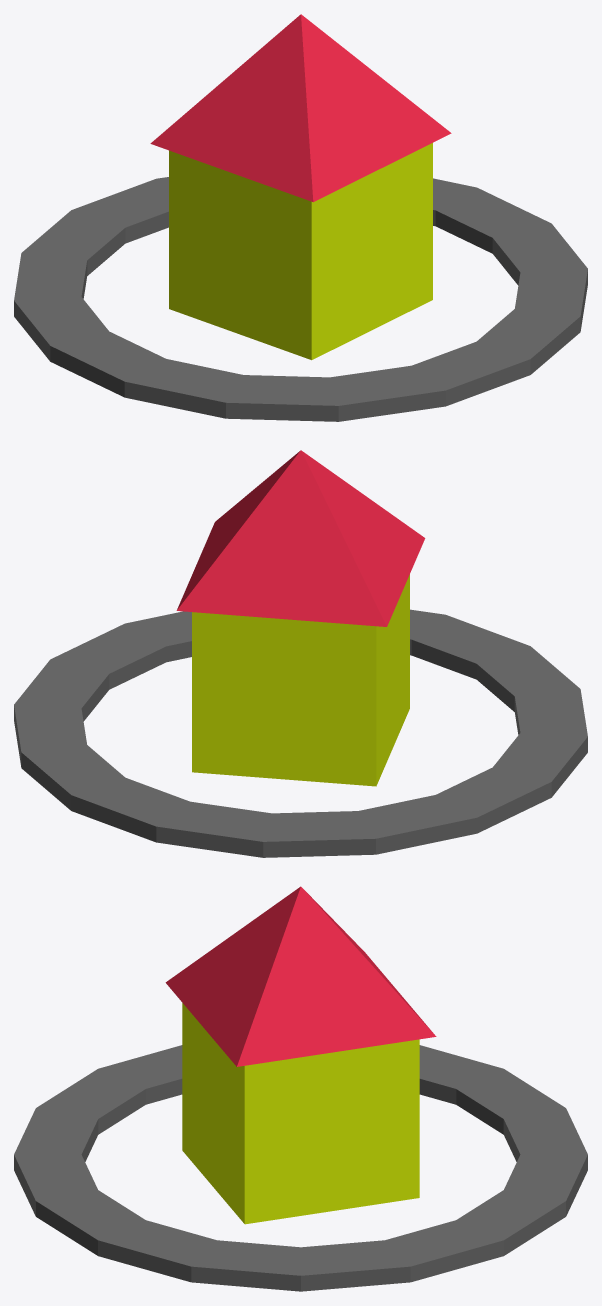
The model's file is test_city4.fbx.
3 views of the same model, one above another, from view 1: azimuth 30°, elevation 25°; view 2: azimuth 150°, elevation 25°; view 3: azimuth 270°, elevation 25° (orthographic).
Visible parts, largest first — view 1: street, house, roof; view 2: street, house, roof; view 3: street, house, roof.
Part boxes in pixels (box(x1,y1,x2,y2)): street: box(14, 177, 587, 421); house: box(169, 143, 432, 360); roof: box(150, 14, 451, 202); street: box(14, 609, 587, 857); house: box(192, 574, 409, 786); roof: box(176, 450, 425, 626); street: box(14, 1045, 587, 1291); house: box(182, 1003, 419, 1224); roof: box(165, 886, 436, 1066).
Bounding box in the file's own units: 86.3 × 47.76 × 86.3.
